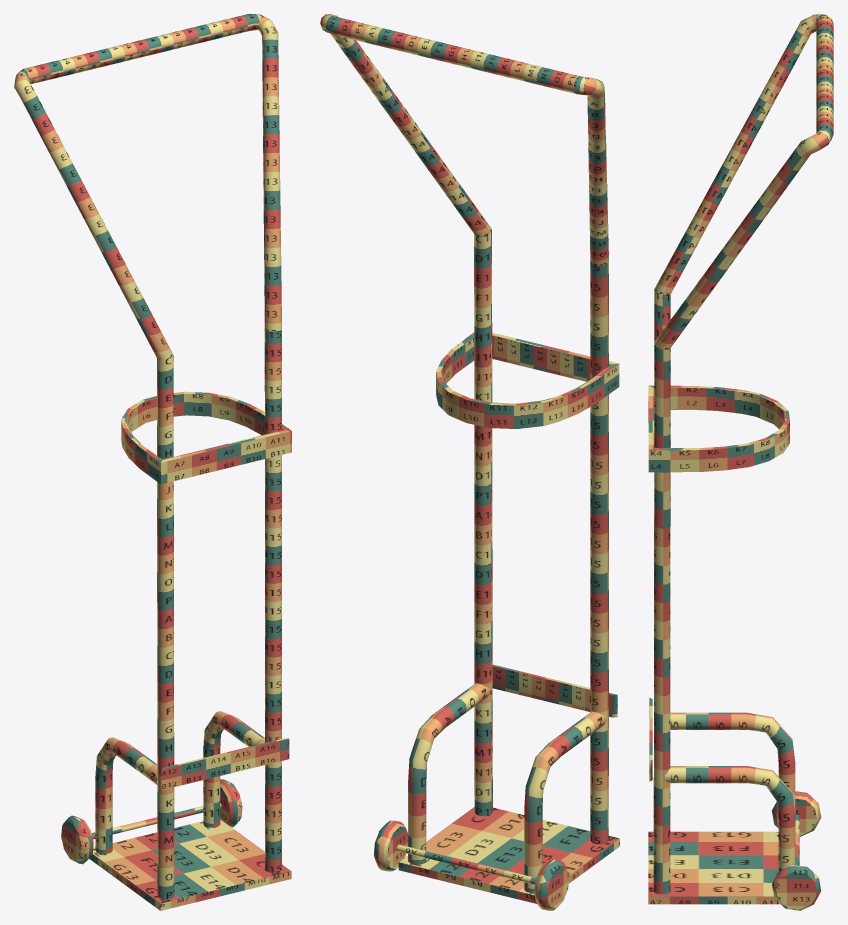
Rendered from SM_Roller_01a.fbx.
3 renders of one model, left to right at view 1: azimuth 30°, elevation 25°; view 2: azimuth 150°, elevation 25°; view 3: azimuth 270°, elevation 25°, orthographic. The views are drawn at different scales.
Parts seen in each view (by area): view 1: SM_Roller_01a; view 2: SM_Roller_01a; view 3: SM_Roller_01a.
Part boxes in pixels (box(x1,y1,x2,y2)): SM_Roller_01a: box(14, 14, 291, 910); SM_Roller_01a: box(320, 14, 619, 910); SM_Roller_01a: box(648, 14, 833, 910).
Size of the model in its own units: 54.14 by 159 by 33.35.
Materials: 1 (1 with a texture image).
